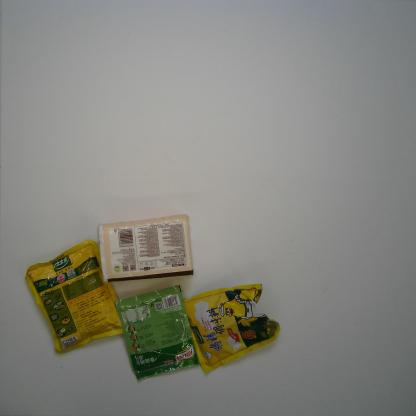Seasoner: (24, 237, 124, 355), (183, 282, 282, 376), (115, 284, 201, 381)
Tissue: (96, 212, 194, 284)
